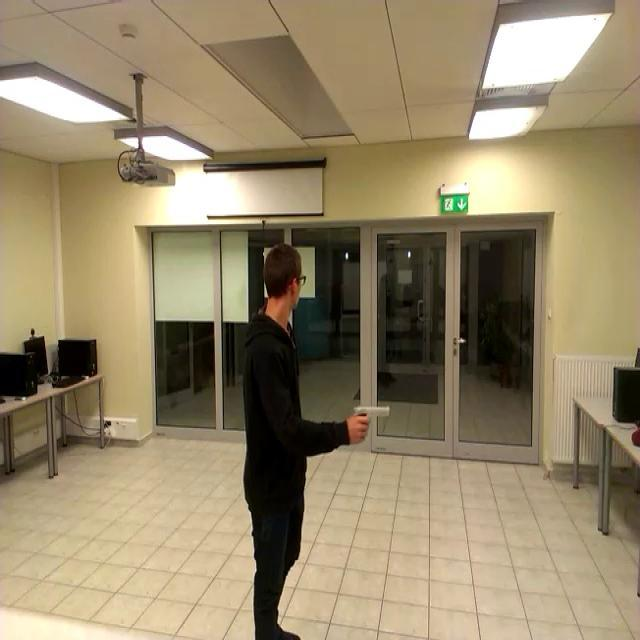Gun: (351, 396, 399, 441)
